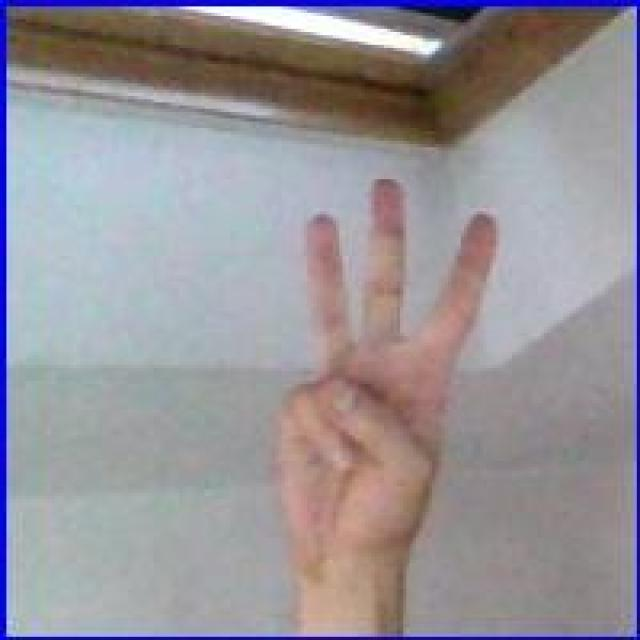W: (262, 174, 502, 568)
